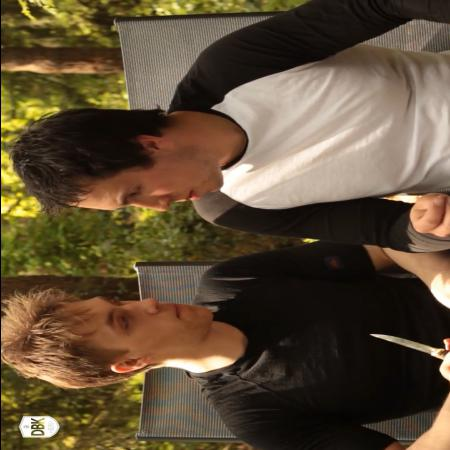long weapon: (356, 326, 450, 378)
